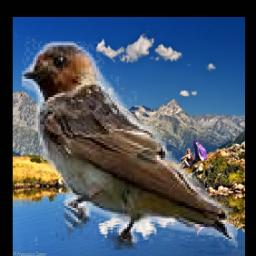Swallow: (22, 40, 238, 251)
